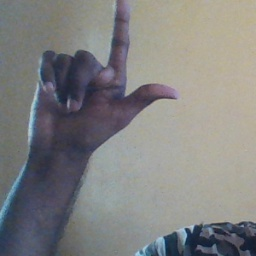L: (32, 1, 175, 149)
